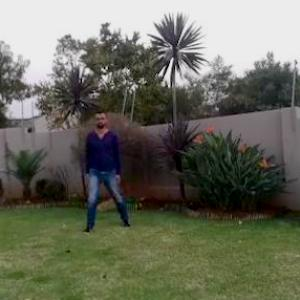follow: (86, 100, 123, 226)
